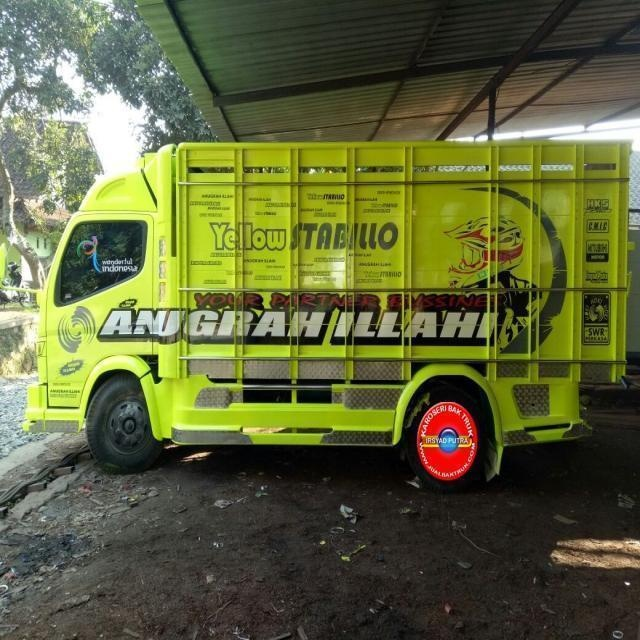Truck: (24, 136, 632, 498)
